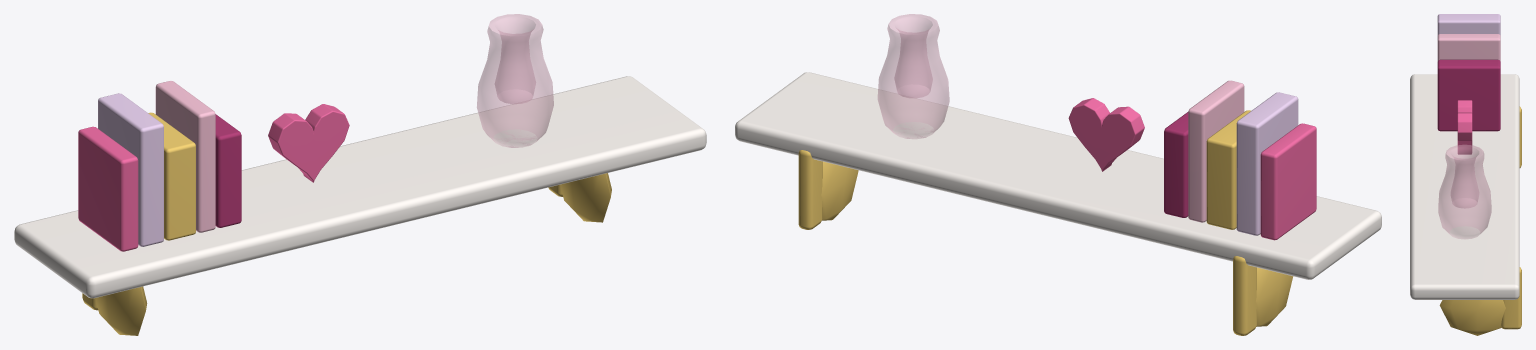
The model's file is shelf_wall.glb.
3 views of the same model, side by side, from view 1: azimuth 30°, elevation 25°; view 2: azimuth 150°, elevation 25°; view 3: azimuth 270°, elevation 25° (orthographic). The views are drawn at different scales.
Visible parts, largest first — view 1: shelf_wall; view 2: shelf_wall; view 3: shelf_wall.
Part boxes in pixels (x1,y1,x2,y2): shelf_wall: (14, 14, 706, 335); shelf_wall: (735, 14, 1381, 335); shelf_wall: (1410, 14, 1521, 335).
Size of the model in its own units: 1.2 by 0.42 by 0.265.
